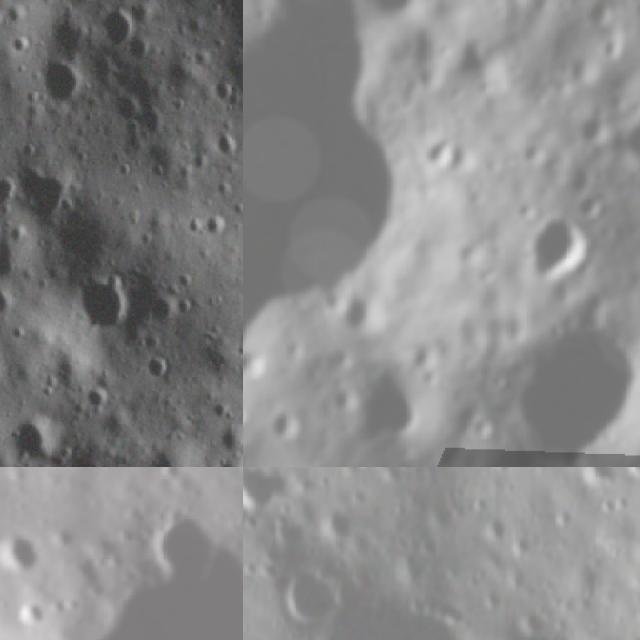crater: (243, 48, 421, 294), (503, 307, 640, 467), (341, 350, 446, 450), (70, 263, 147, 348), (313, 604, 489, 640), (530, 192, 584, 290), (0, 397, 69, 467), (278, 562, 342, 628), (330, 274, 386, 343), (35, 53, 93, 113), (0, 526, 45, 592), (90, 0, 144, 53), (567, 0, 620, 47), (269, 403, 318, 448), (427, 136, 472, 180), (243, 334, 278, 385), (243, 467, 280, 514), (145, 288, 184, 330), (12, 594, 52, 633), (619, 98, 640, 170), (142, 348, 181, 386), (267, 516, 307, 546), (453, 234, 486, 268), (317, 509, 354, 538), (573, 467, 624, 488), (572, 190, 609, 218), (444, 68, 470, 104), (6, 30, 34, 61), (466, 417, 488, 446), (243, 401, 253, 430)
